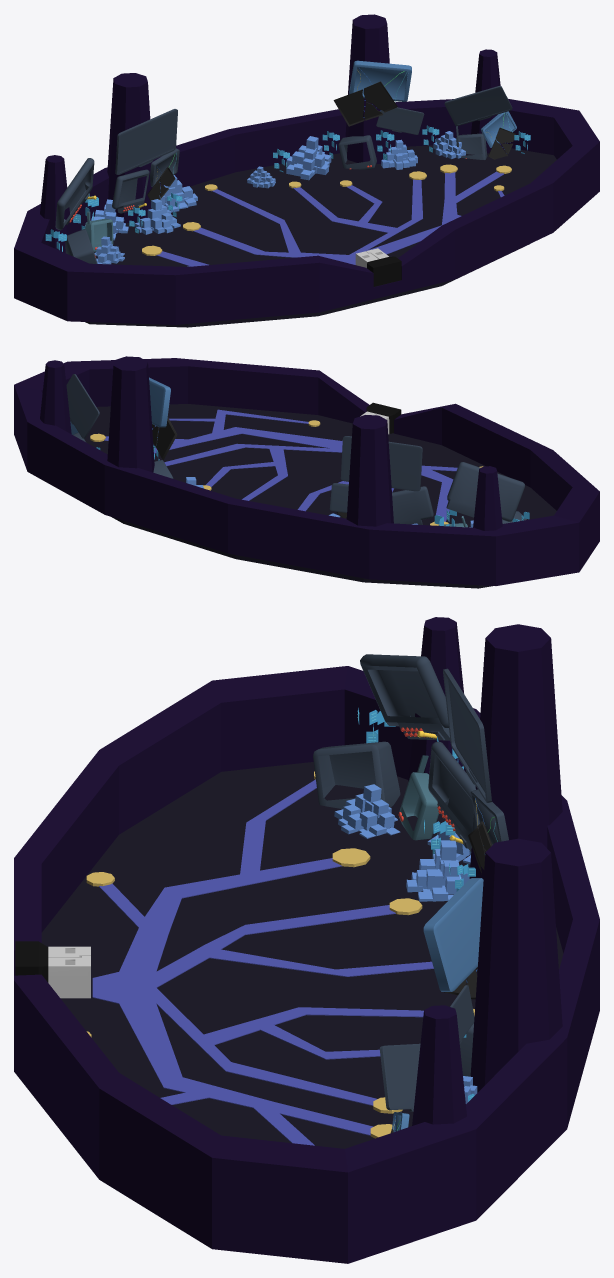
File: Location 3 (Boss) (Clean) 1.fbx
3 views of the same model, one above another, from view 1: azimuth 30°, elevation 25°; view 2: azimuth 150°, elevation 25°; view 3: azimuth 270°, elevation 25° (orthographic). The views are drawn at different scales.
Parts seen in each view (by area): view 1: Cylinder.013, Cylinder, Cylinder.001, Plane.001, Cube.019, Cylinder.002, Cube.013, Cube.072, Cube.099, Cube.037, Cube.038, Cube.052 (+14 smaller); view 2: Cylinder.013, Cylinder, Cylinder.001, Plane.001, Cylinder.002, Cube.099, Cube.013, Cube.019, Cube.018, Cube.072, Cube.015, Cube.038; view 3: Cylinder.013, Cylinder, Cylinder.001, Plane.001, Cylinder.002, Cube.099, Cube.019, Cube.106, Cube.038, Cube.018, Cube.013, Cube.086 (+4 smaller).
Boxes of the visible parts, x1,y1,x2,y2 form: Cylinder.013: [14, 99, 599, 324]; Cylinder: [85, 145, 556, 327]; Cylinder.001: [107, 14, 394, 223]; Plane.001: [156, 171, 504, 266]; Cube.019: [333, 60, 411, 126]; Cylinder.002: [40, 49, 504, 252]; Cube.013: [115, 109, 177, 174]; Cube.072: [444, 86, 512, 125]; Cube.099: [55, 158, 96, 230]; Cube.037: [286, 136, 331, 180]; Cube.038: [355, 248, 401, 286]; Cube.052: [481, 111, 516, 159]; Cylinder.013: [14, 358, 599, 585]; Cylinder: [84, 404, 556, 588]; Cylinder.001: [107, 356, 393, 526]; Plane.001: [104, 409, 457, 521]; Cylinder.002: [40, 360, 502, 530]; Cube.099: [446, 462, 524, 521]; Cube.013: [340, 436, 422, 491]; Cube.019: [149, 377, 177, 459]; Cube.018: [392, 486, 433, 524]; Cube.072: [66, 374, 99, 438]; Cube.015: [329, 483, 348, 518]; Cube.038: [360, 402, 401, 434]; Cylinder.013: [14, 666, 599, 1263]; Cylinder: [41, 762, 563, 1148]; Cylinder.001: [469, 624, 562, 1092]; Plane.001: [92, 779, 433, 1145]; Cylinder.002: [408, 617, 466, 1125]; Cube.099: [360, 654, 450, 740]; Cube.019: [423, 878, 483, 999]; Cube.106: [313, 741, 400, 808]; Cube.038: [15, 941, 90, 998]; Cube.018: [428, 741, 476, 851]; Cube.013: [443, 668, 491, 802]; Cube.086: [406, 840, 469, 901].
Bounding box in the file's own units: 7893 × 2071 × 3858.
